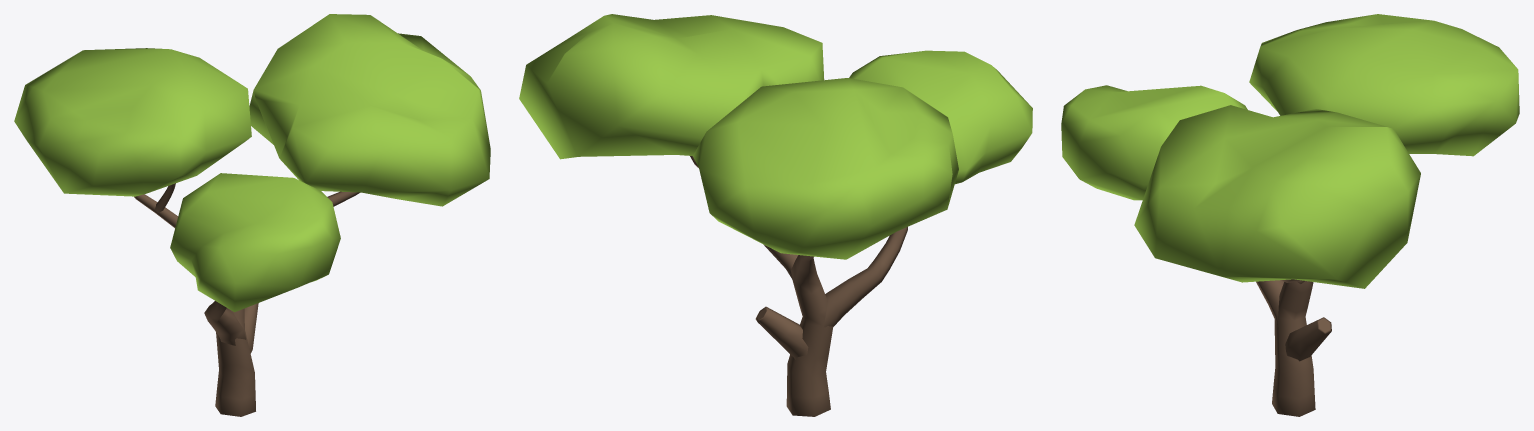
Rendered from tree_1.fbx.
3 renders of one model, left to right at view 1: azimuth 30°, elevation 25°; view 2: azimuth 150°, elevation 25°; view 3: azimuth 270°, elevation 25°, orthographic. The views are drawn at different scales.
Visible parts, largest first — view 1: Tube; view 2: Tube; view 3: Tube.
Part boxes in pixels (<box>): Tube: <box>14,14,490,416</box>; Tube: <box>519,14,1032,416</box>; Tube: <box>1061,14,1519,416</box>.
Size of the model in its own units: 47.85 by 36.63 by 43.19.
